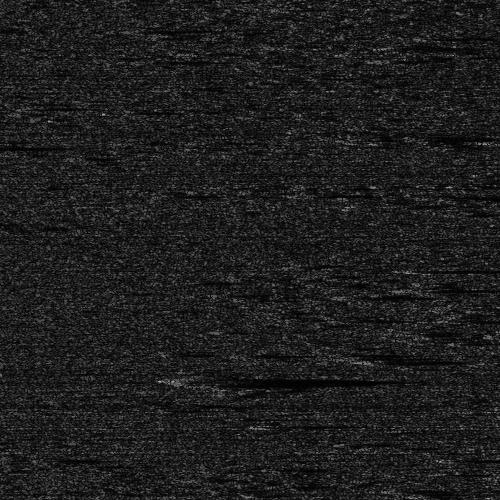rock: (169, 374, 232, 385), (337, 352, 390, 363), (382, 285, 465, 292), (468, 331, 500, 338), (408, 266, 439, 269), (396, 134, 407, 139)
shadow: (201, 374, 354, 385), (364, 352, 465, 363), (424, 285, 493, 292), (0, 143, 58, 148), (424, 266, 500, 269), (402, 134, 436, 139), (489, 331, 500, 338)
